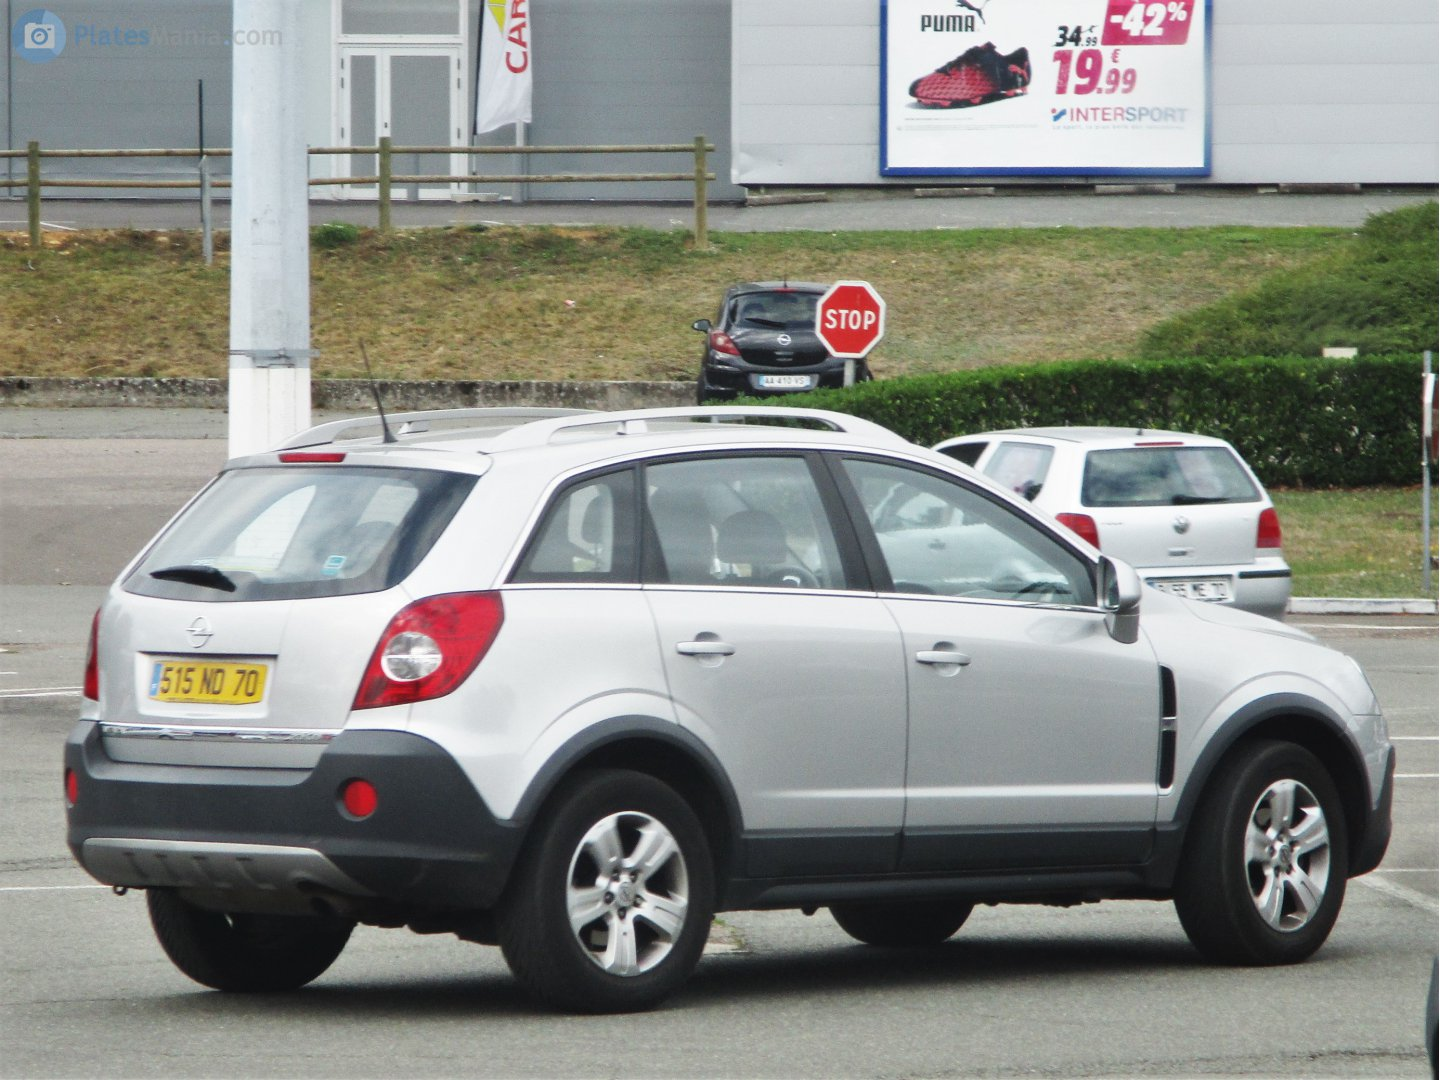licence plate: (142, 654, 271, 705)
